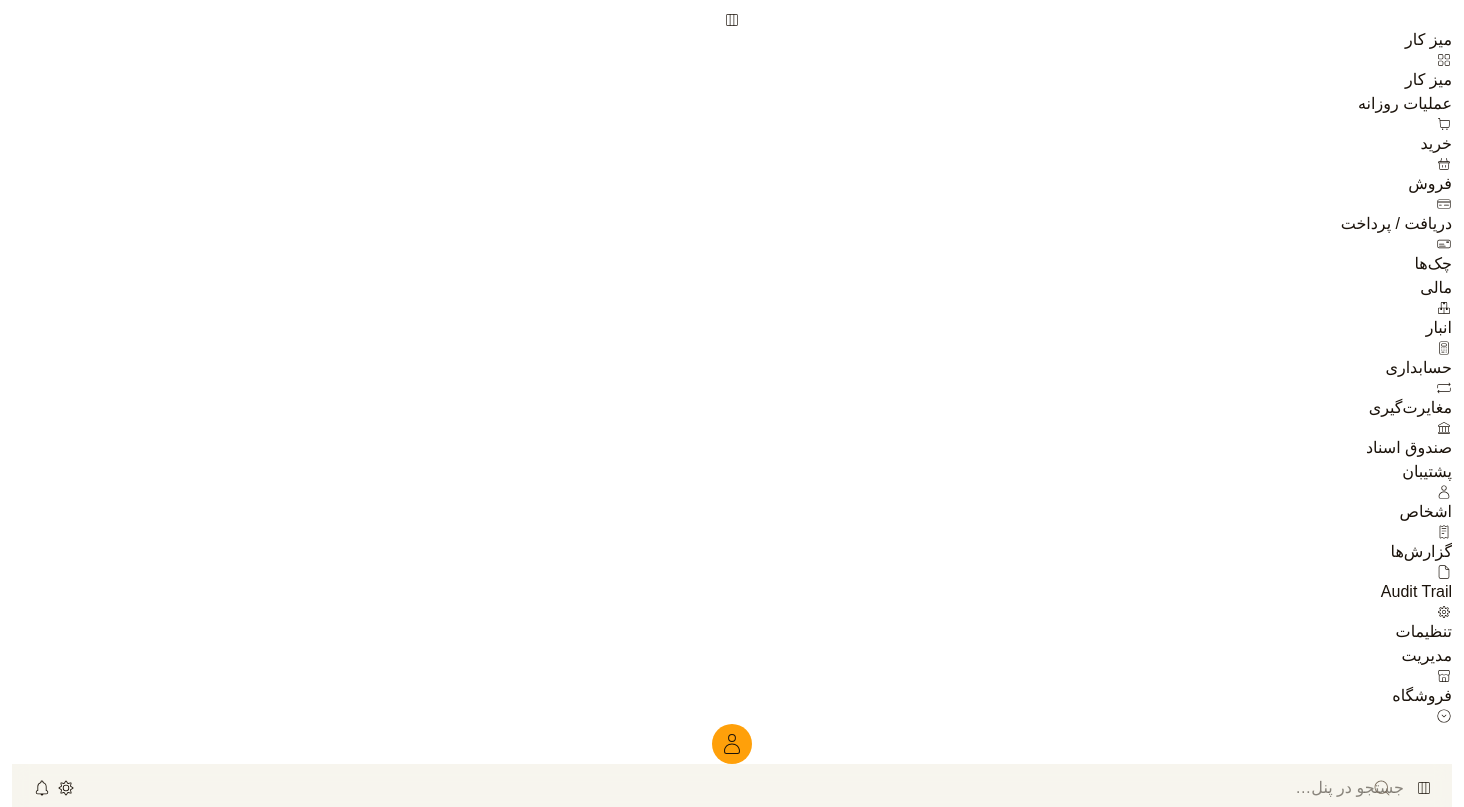
Test: Configurable sidebar sublinks › expands the desktop icon rail when a submenu icon is clicked
Click the button "فروشگاه".
click(1422, 696)  # box left=1392, top=668, right=1452, bottom=724
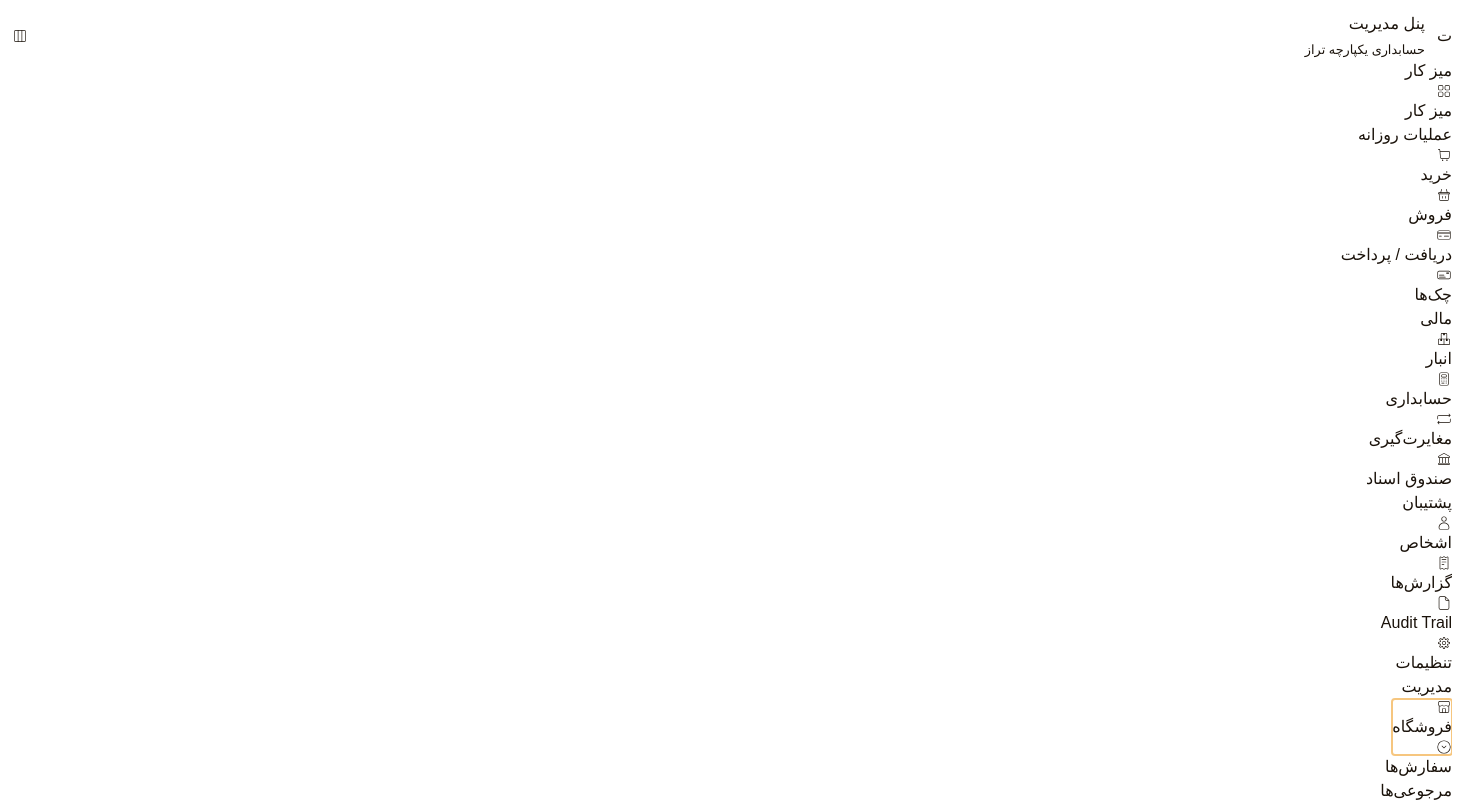
Result: the link "سفارش‌ها" is shown at left=1385, top=758, right=1452, bottom=775
